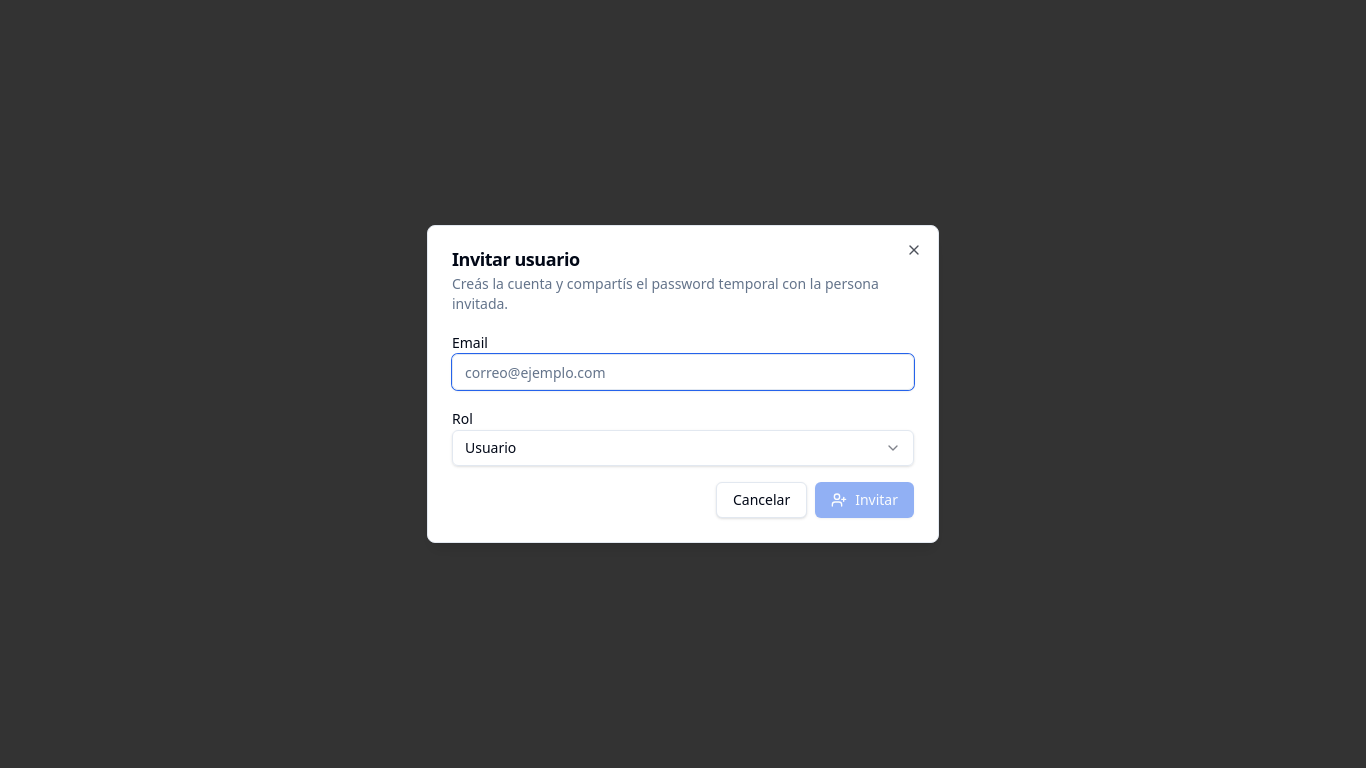
it: DialogoInvitar: resultado y errores › error 409 (usuario existente) muestra el mensaje del servidor y mantiene el diálogo
Type "nuevo@test.local" into the field labelled "Email" at (683, 372), box [452,354,914,390]
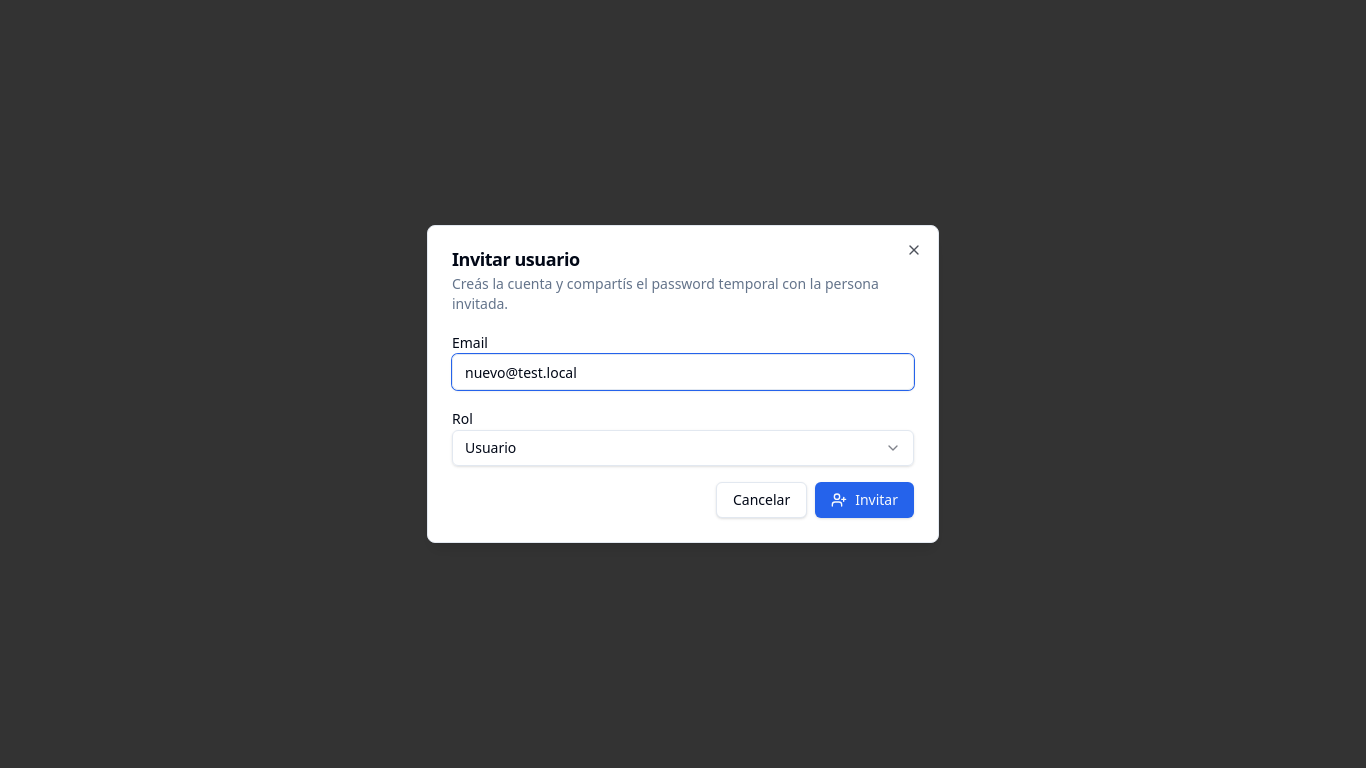
Click the button "Invitar" at (865, 500), box [815,482,914,518]
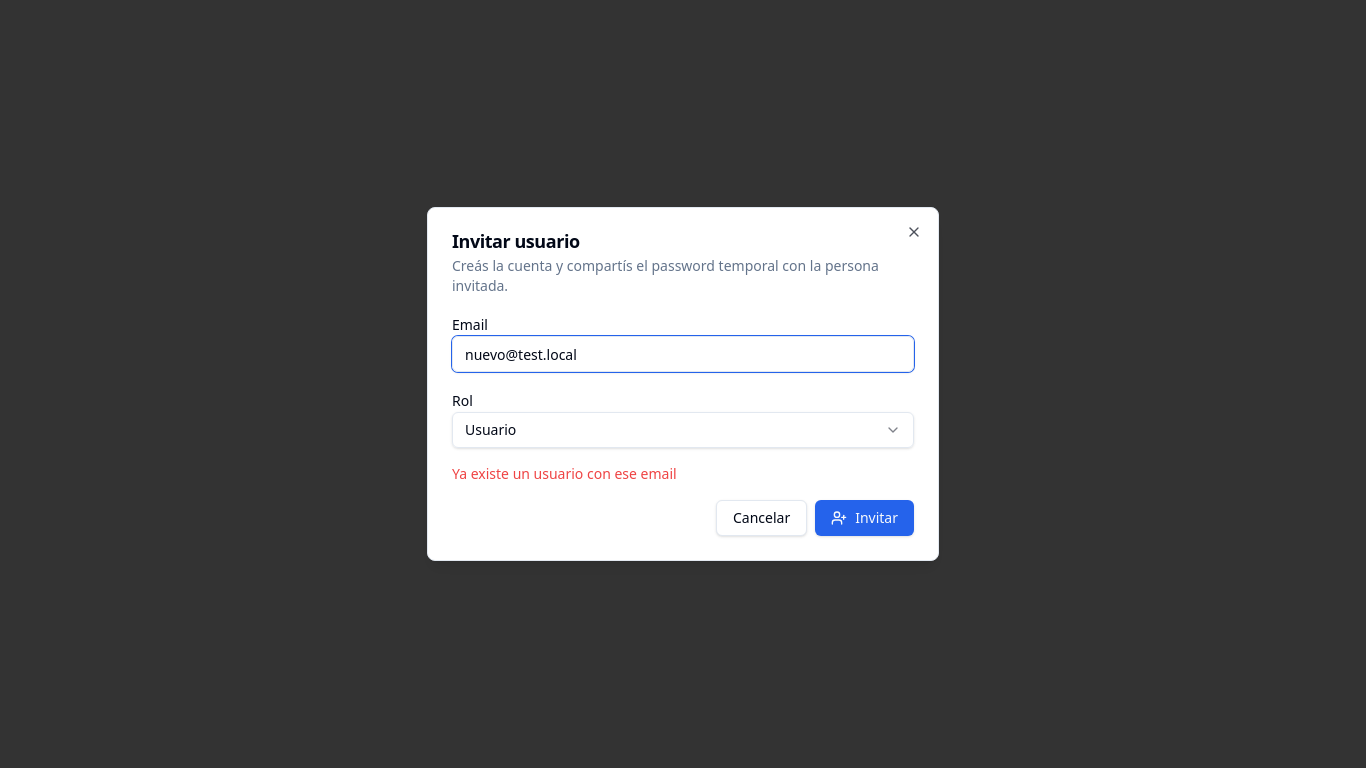
Expected: the button "Invitar" is shown, [815,500,914,536]
Expected: the text "Ya existe un usuario con ese email" is shown, [452,464,677,483]
